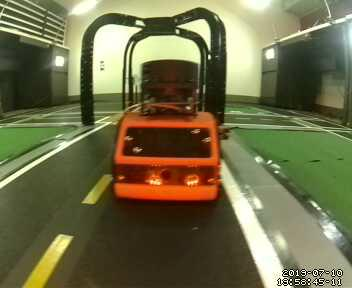pheeno: (111, 56, 223, 202)
